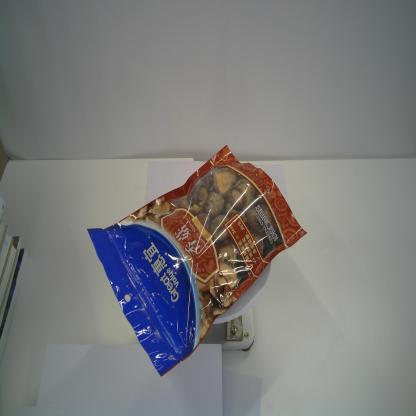Dried Food: (86, 144, 307, 378)
